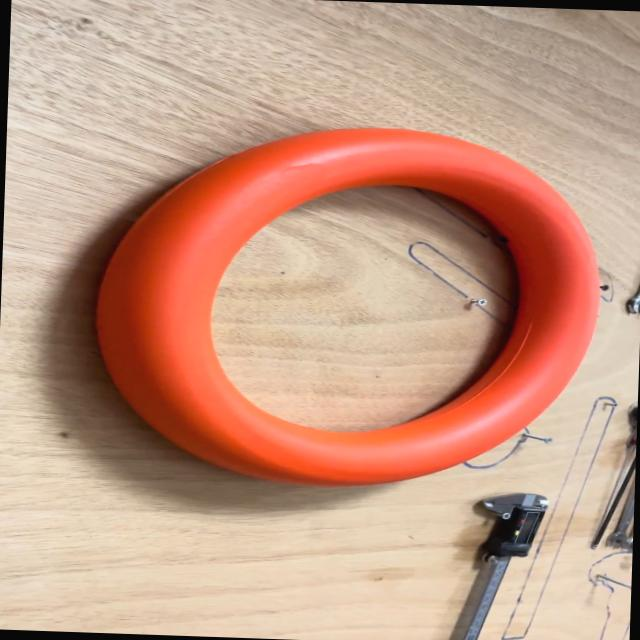note: (86, 115, 608, 498)
